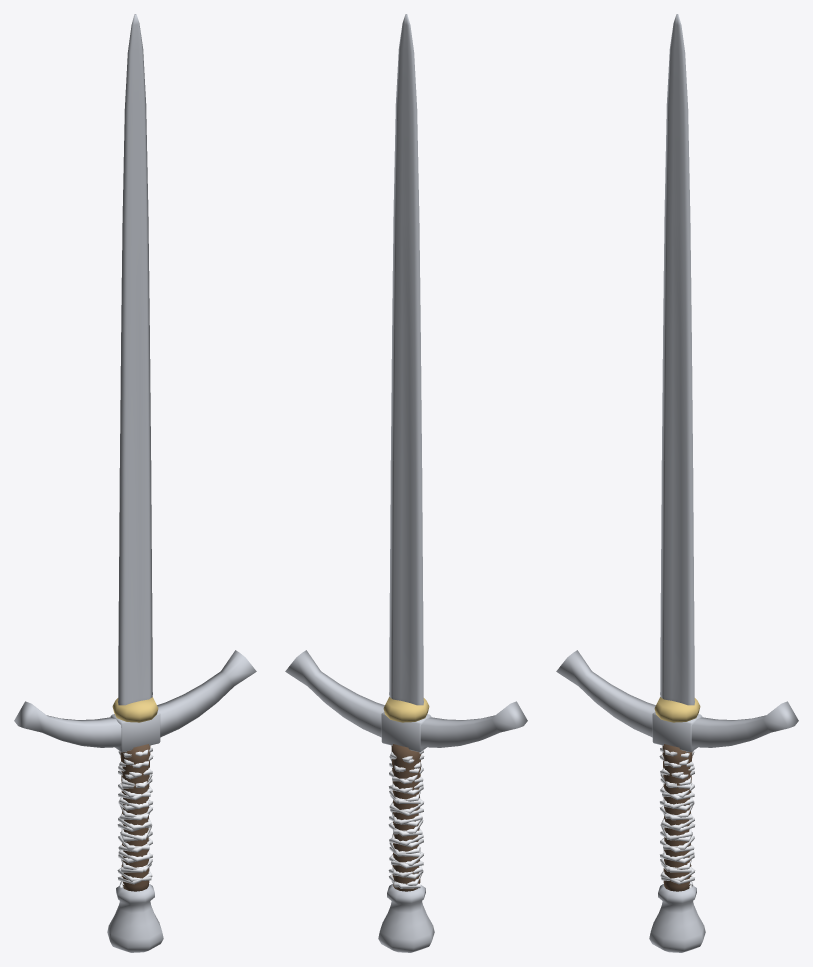
Rendered from weapon_longsword.glb.
3 renders of one model, left to right at view 1: azimuth 30°, elevation 25°; view 2: azimuth 150°, elevation 25°; view 3: azimuth 330°, elevation 25°, orthographic.
Visible parts, largest first — view 1: M_Weapon; view 2: M_Weapon; view 3: M_Weapon.
Boxes of the visible parts, x1,y1,x2,y2 form: M_Weapon: [14, 14, 256, 952]; M_Weapon: [285, 14, 527, 952]; M_Weapon: [556, 14, 798, 952].
Bounding box in the file's own units: 0.3514 × 1.34 × 0.0761.
